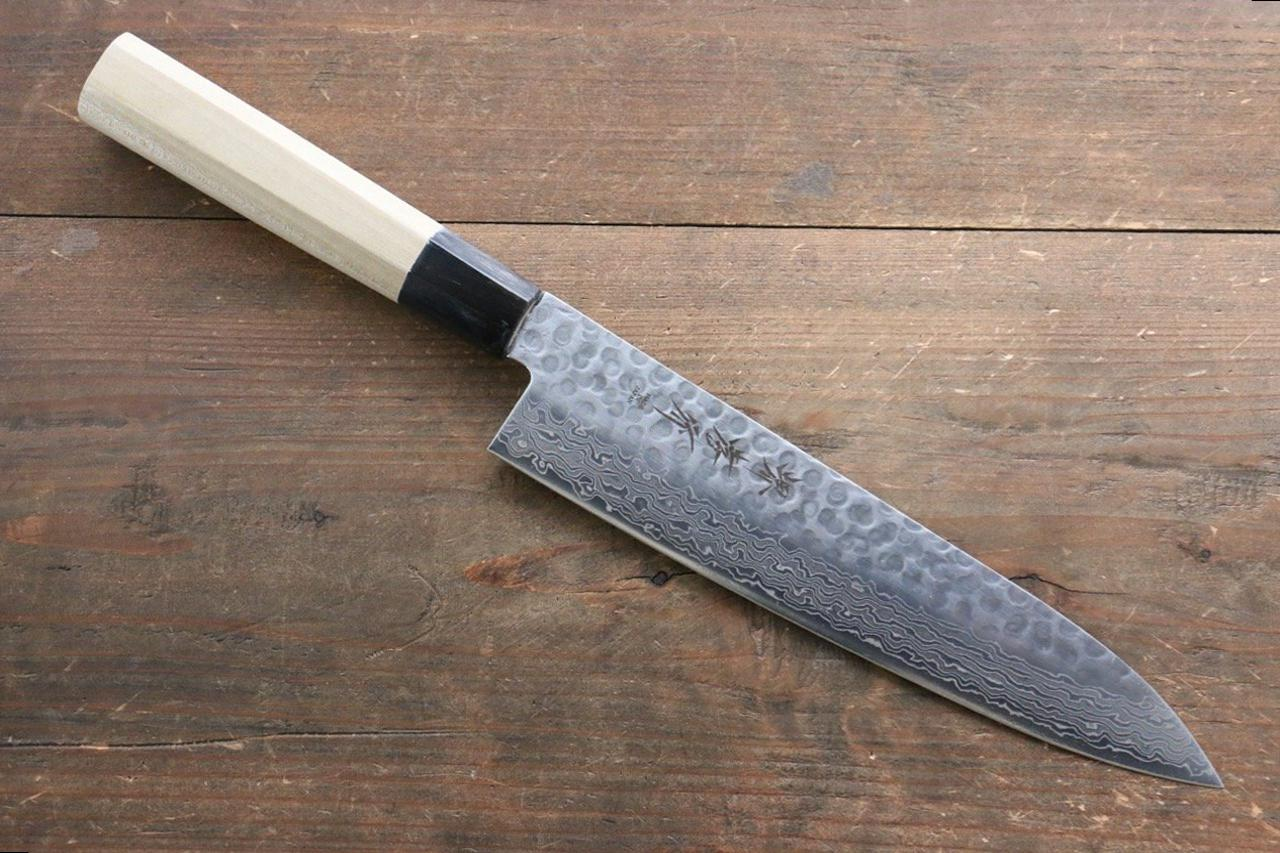knife: (72, 32, 1225, 791)
